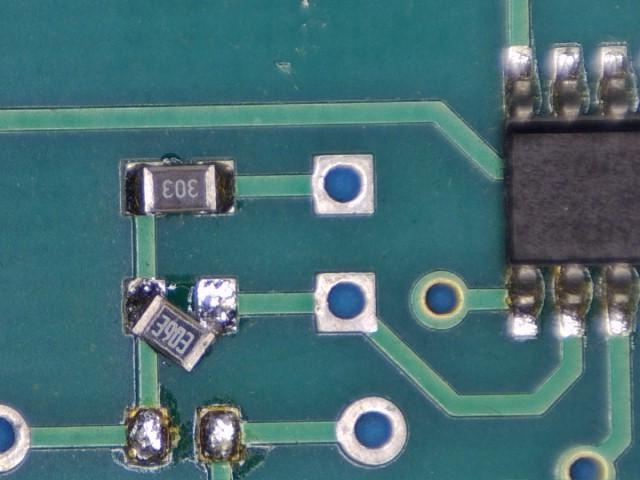pcb_defect: (122, 276, 238, 374)
